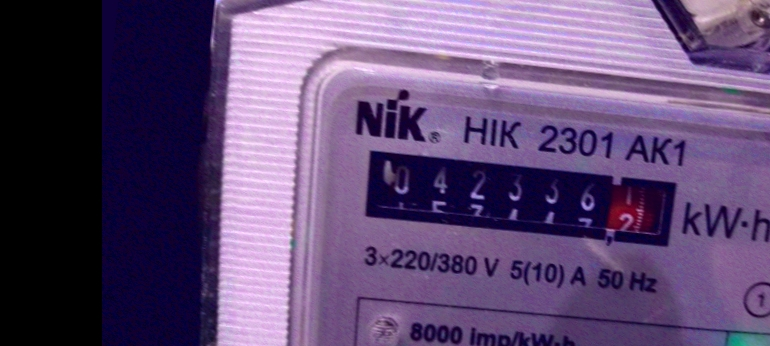0: (391, 161, 413, 196)
1: (621, 180, 635, 207)
2: (466, 165, 491, 201), (615, 210, 634, 233)
3: (504, 168, 525, 202), (542, 172, 563, 206)
4: (431, 161, 451, 195)
6: (577, 178, 600, 214)
screen: (349, 134, 692, 260)
